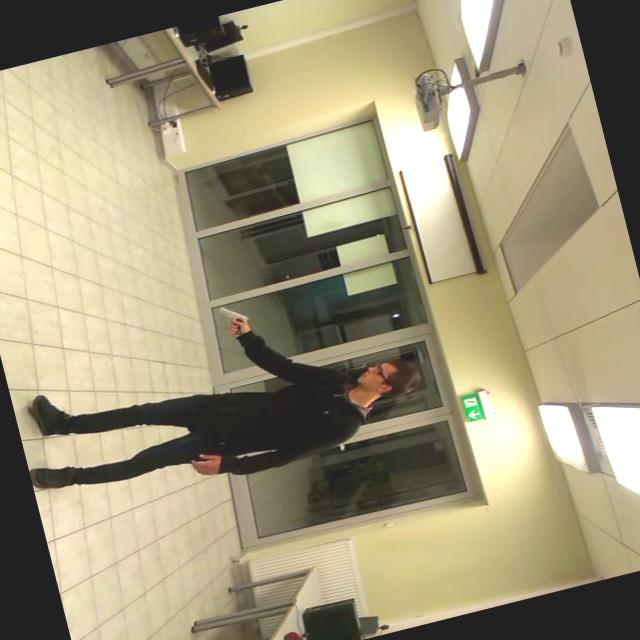handgun: (195, 287, 268, 349)
